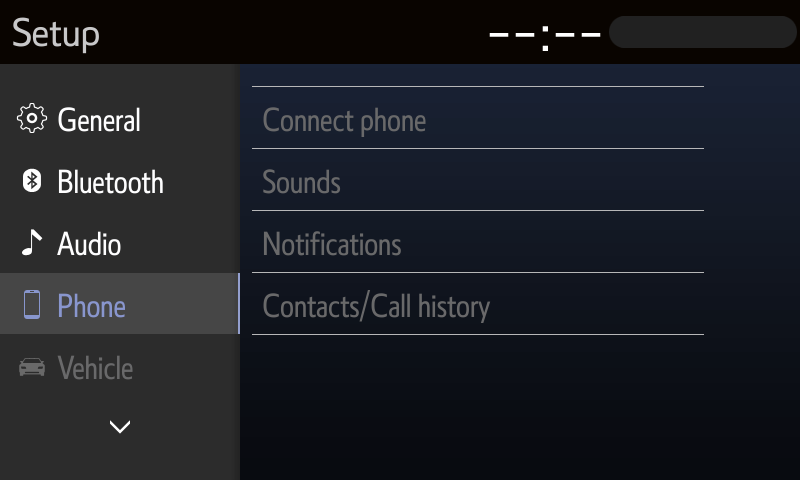touchPart: (10, 160, 168, 206), (8, 94, 153, 141), (13, 222, 141, 262), (97, 407, 145, 446)
untouchPart: (241, 77, 716, 154), (240, 203, 719, 278), (241, 269, 721, 339), (241, 148, 718, 218), (1, 269, 238, 345), (489, 5, 798, 57), (10, 7, 116, 57), (18, 353, 134, 384)
